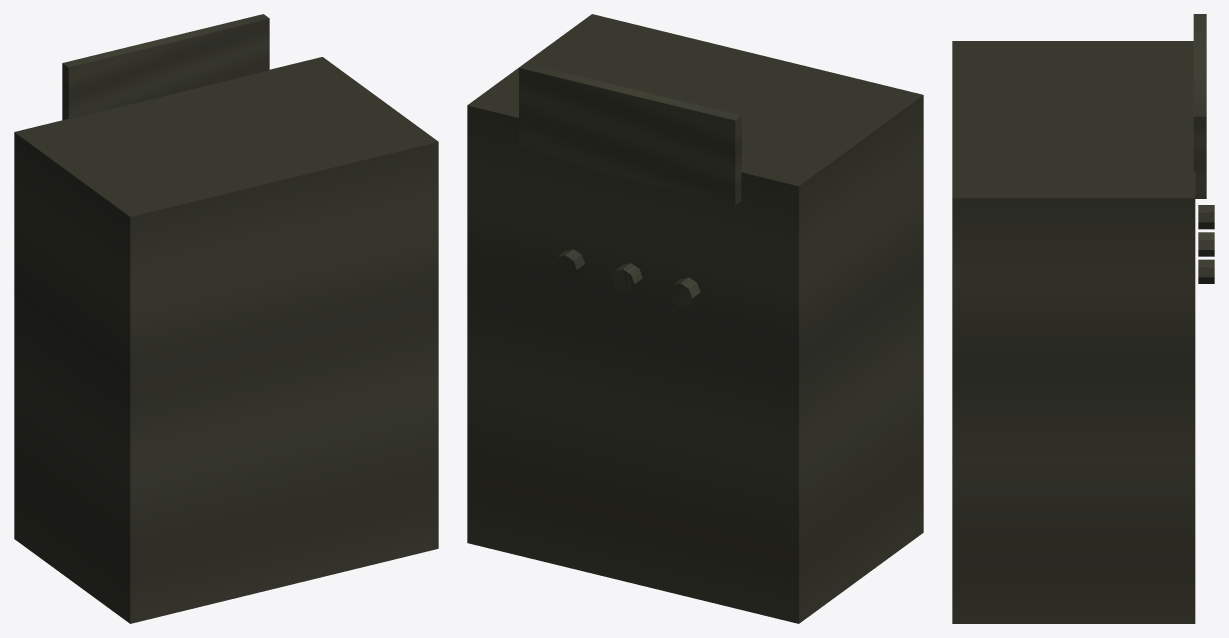
Rendered from env_insertion_cairn_a.glb.
The picture shows the model from 3 angles, left to right: view 1: azimuth 30°, elevation 25°; view 2: azimuth 150°, elevation 25°; view 3: azimuth 270°, elevation 25°; orthographic projection. The views are drawn at different scales.
Visible parts, largest first — view 1: env_insertion_cairn_a; view 2: env_insertion_cairn_a; view 3: env_insertion_cairn_a.
Part boxes in pixels (x1,y1,x2,y2): env_insertion_cairn_a: (14,14,438,623); env_insertion_cairn_a: (467,14,923,623); env_insertion_cairn_a: (952,14,1214,623).
Size of the model in its own units: 1.15 by 1.66 by 0.81.
1 material, 1 textured.
